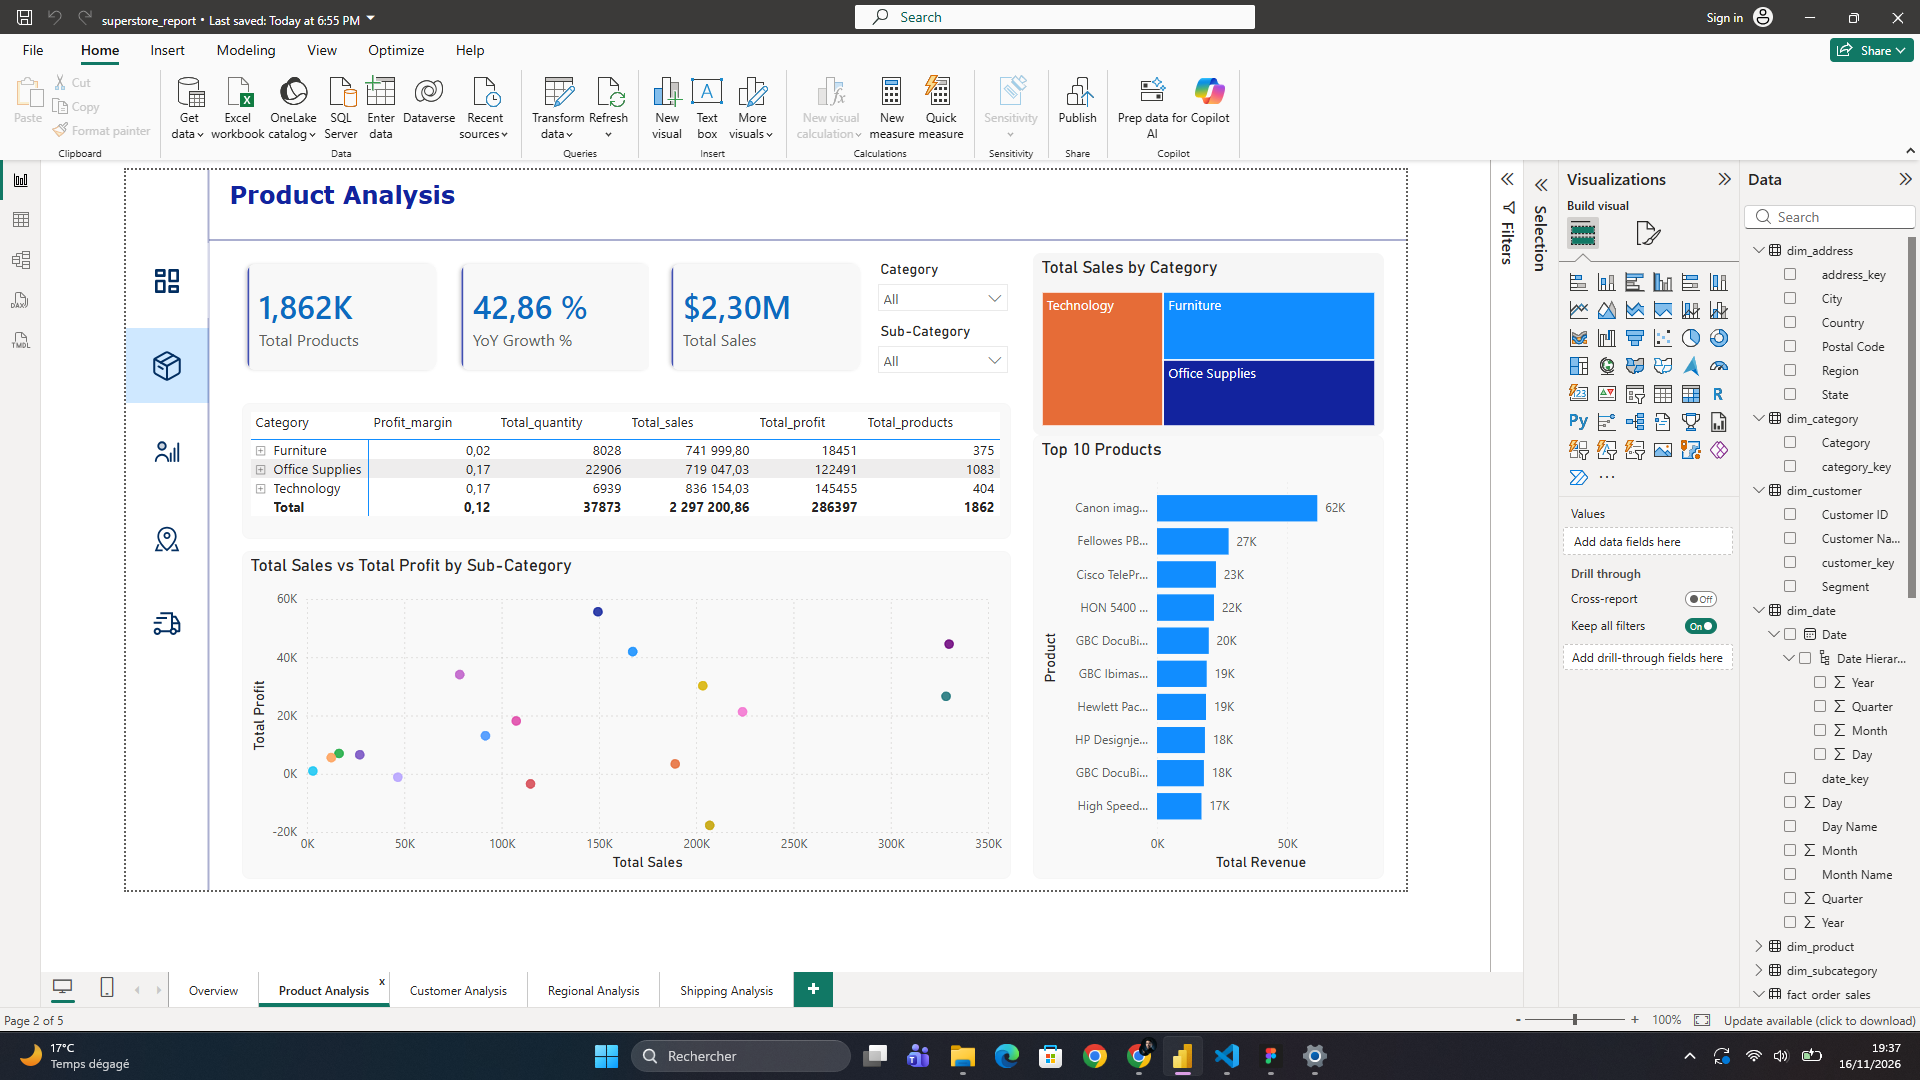

This screenshot's page, from the dashboard's own definition file:
{"tool":"powerbi","page":{"name":"Product Analysis","canvas":[1280,720],"ordinal":1},"visuals":[{"type":"shape","box":[83,0,1197,140],"z":0},{"type":"actionButton","title":"Product analysis","box":[0,158,83,75],"z":1000},{"type":"actionButton","title":"Product analysis","box":[0,243,83,76],"z":2000},{"type":"actionButton","title":"Product analysis","box":[0,330,83,77],"z":3000},{"type":"actionButton","title":"Product analysis","box":[0,417,83,71],"z":4000},{"type":"cardVisual","fields":{"Data":["fact_order_sales.Sales_YoY_%"]},"box":[313,72,234,150],"z":5000},{"type":"cardVisual","fields":{"Data":["fact_order_sales.Total_sales"]},"box":[523,72,234,150],"z":6000},{"type":"cardVisual","title":"Total Products","fields":{"Data":["fact_order_sales.Total_products"]},"box":[99,72,234,150],"z":7000},{"type":"barChart","title":"Top 10 Products","fields":{"Category":["dim_product.Product Name"],"Y":["fact_order_sales.Total_sales"]},"box":[907,265,351,444],"z":8000},{"type":"textbox","box":[99,5,270,54],"z":9000},{"type":"shape","box":[59,0,47,720],"z":10000},{"type":"actionButton","title":"Product analysis","box":[0,73,83,75],"z":11000},{"type":"treemap","title":"Total Sales by Category","fields":{"Group":["dim_category.Category"],"Values":["fact_order_sales.Total_sales"]},"box":[907,83,351,182],"z":12000},{"type":"scatterChart","title":"Total Sales vs Total Profit by Sub-Category","fields":{"X":["fact_order_sales.Total_sales"],"Y":["fact_order_sales.Total_profit"],"Category":["dim_subcategory.Sub-Category"]},"box":[116,381,769,328],"z":13000},{"type":"pivotTable","fields":{"Rows":["dim_category.Category","dim_subcategory.Sub-Category"],"Values":["fact_order_sales.Profit_margin","fact_order_sales.Total_quantity","fact_order_sales.Total_sales","fact_order_sales.Total_profit","fact_order_sales.Total_products"]},"box":[116,233,769,136],"z":14000},{"type":"slicer","fields":{"Values":["dim_category.Category"]},"box":[742,86,150,63],"z":15000},{"type":"slicer","fields":{"Values":["dim_subcategory.Sub-Category"]},"box":[742,148,150,58],"z":16000}]}

Visuals, with their boxes on the page's 1280x720 design canvas (x1, y1, x2, y2). These are canvas units, not pixel positions in the 1920x1080 screenshot, which may show the page scaled, cropped or inside an application window:
shape: (x1=83, y1=0, x2=1280, y2=140)
"Product analysis" actionButton: (x1=0, y1=158, x2=83, y2=233)
"Product analysis" actionButton: (x1=0, y1=243, x2=83, y2=319)
"Product analysis" actionButton: (x1=0, y1=330, x2=83, y2=407)
"Product analysis" actionButton: (x1=0, y1=417, x2=83, y2=488)
cardVisual - fact_order_sales.Sales_YoY_%: (x1=313, y1=72, x2=547, y2=222)
cardVisual - fact_order_sales.Total_sales: (x1=523, y1=72, x2=757, y2=222)
"Total Products" cardVisual: (x1=99, y1=72, x2=333, y2=222)
"Top 10 Products" barChart: (x1=907, y1=265, x2=1258, y2=709)
textbox: (x1=99, y1=5, x2=369, y2=59)
shape: (x1=59, y1=0, x2=106, y2=720)
"Product analysis" actionButton: (x1=0, y1=73, x2=83, y2=148)
"Total Sales by Category" treemap: (x1=907, y1=83, x2=1258, y2=265)
"Total Sales vs Total Profit by Sub-Category" scatterChart: (x1=116, y1=381, x2=885, y2=709)
pivotTable - dim_category.Category x dim_subcategory.Sub-Category: (x1=116, y1=233, x2=885, y2=369)
slicer - dim_category.Category: (x1=742, y1=86, x2=892, y2=149)
slicer - dim_subcategory.Sub-Category: (x1=742, y1=148, x2=892, y2=206)
